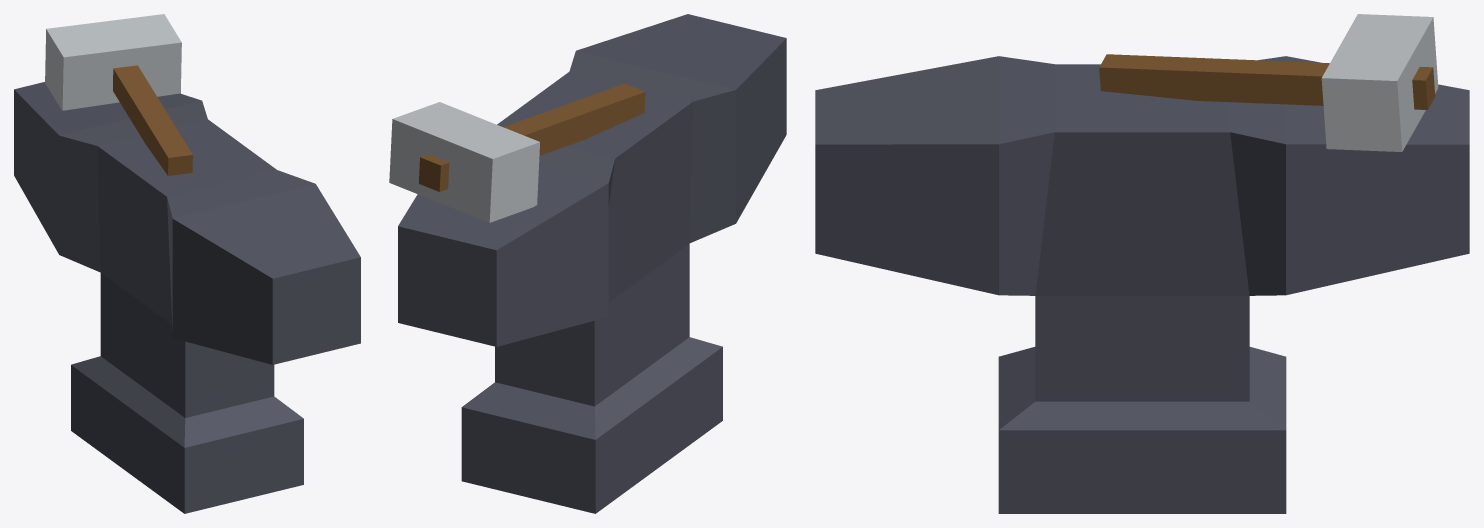
File: anvil.fbx
The picture shows the model from 3 angles, left to right: view 1: azimuth 30°, elevation 25°; view 2: azimuth 150°, elevation 25°; view 3: azimuth 270°, elevation 25°; orthographic projection. The views are drawn at different scales.
Parts seen in each view (by area): view 1: Cube.006; view 2: Cube.006; view 3: Cube.006.
Boxes of the visible parts, bbox=[...] form: Cube.006: bbox=[14, 14, 360, 513]; Cube.006: bbox=[389, 14, 786, 513]; Cube.006: bbox=[815, 14, 1469, 513].
Bounding box in the file's own units: 77.58 × 174 × 232.
